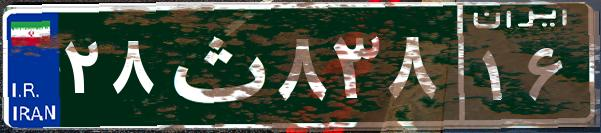1: (475, 38, 525, 113)
2: (57, 26, 110, 107)
3: (330, 28, 385, 110)
6: (525, 38, 570, 115)
8: (385, 28, 445, 110), (273, 28, 330, 110), (110, 28, 158, 105)
ث: (158, 15, 273, 115)
